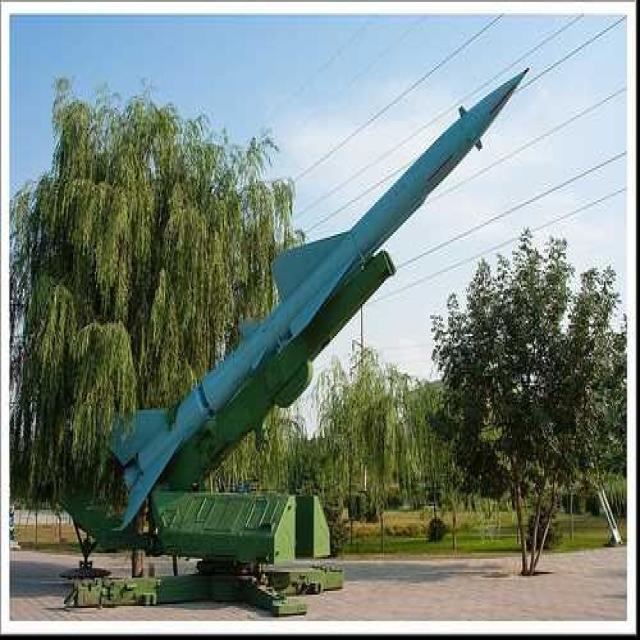missile: (116, 64, 532, 520)
